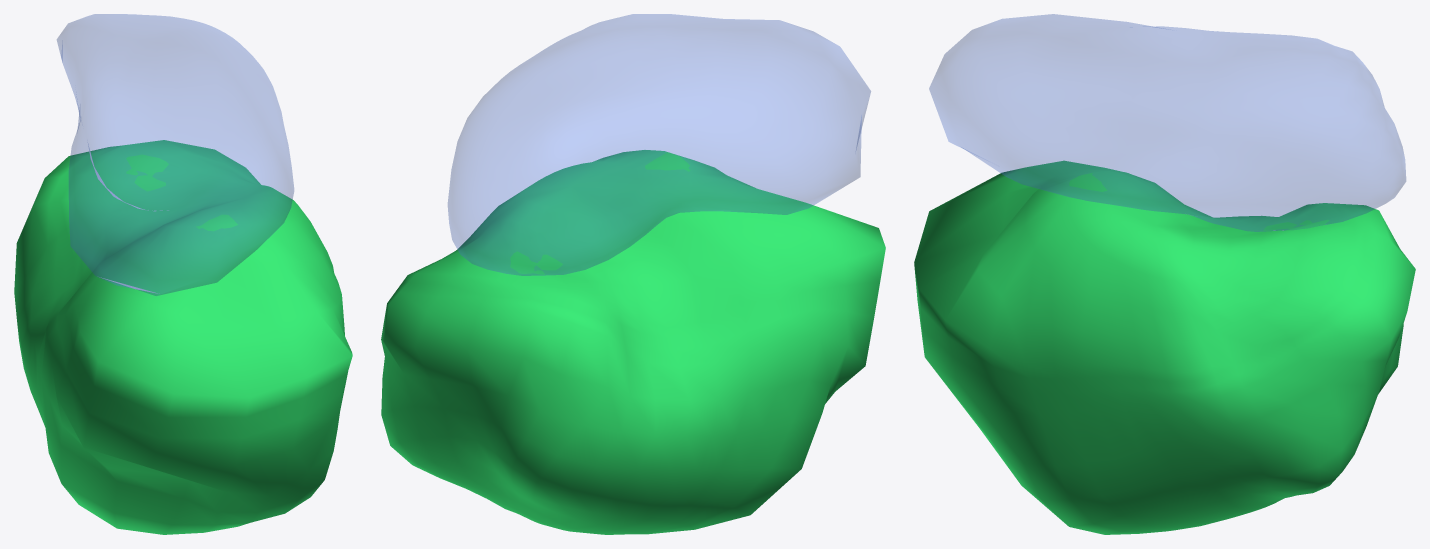
Rendered from ribosome.fbx.
3 views of the same model, side by side, from view 1: azimuth 30°, elevation 25°; view 2: azimuth 150°, elevation 25°; view 3: azimuth 270°, elevation 25° (orthographic). The views are drawn at different scales.
Visible parts, largest first — view 1: Sphere; view 2: Sphere; view 3: Sphere.
Part boxes in pixels (left/top/right/bottom): Sphere: left=14, top=14, right=352, bottom=534; Sphere: left=381, top=14, right=885, bottom=534; Sphere: left=914, top=14, right=1415, bottom=534.
Size of the model in its own units: 385 by 509 by 480.
